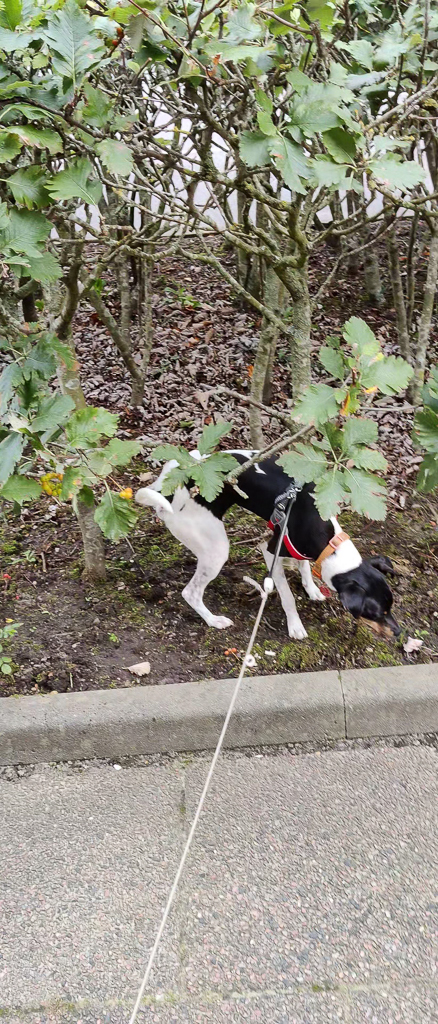Dog: (129, 430, 413, 656)
